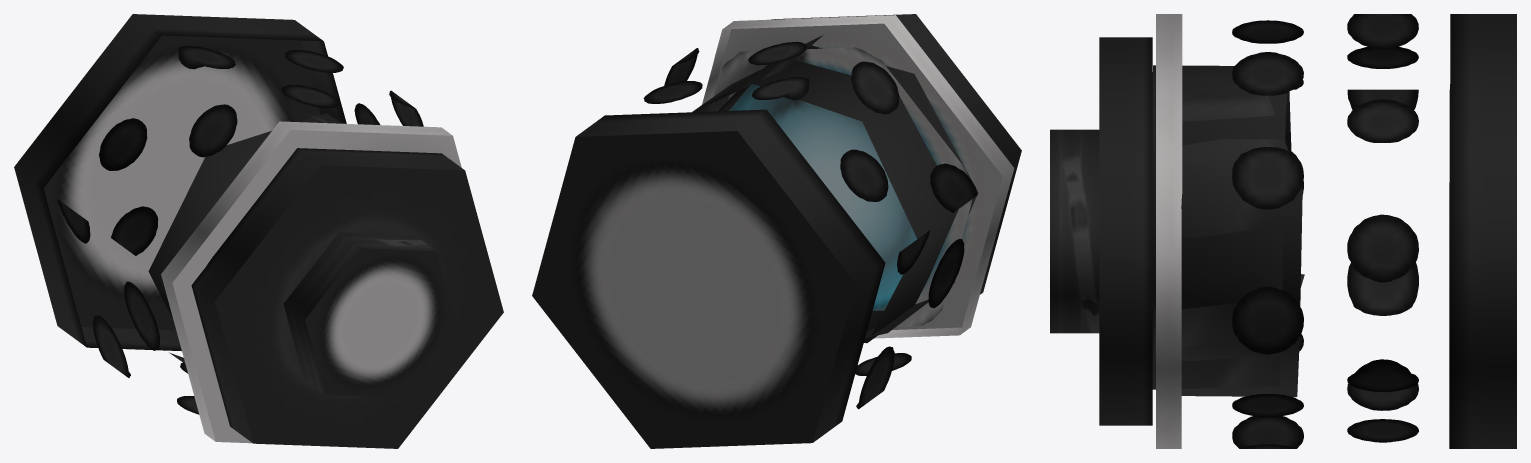
The model's file is obj_interactive_suspensionsport_04_on_lod1.fbx.
3 views of the same model, side by side, from view 1: azimuth 30°, elevation 25°; view 2: azimuth 150°, elevation 25°; view 3: azimuth 270°, elevation 25° (orthographic). The views are drawn at different scales.
Visible parts, largest first — view 1: obj_interactive_suspensionsport_04_on_lod1; view 2: obj_interactive_suspensionsport_04_on_lod1; view 3: obj_interactive_suspensionsport_04_on_lod1.
Boxes of the visible parts, x1,y1,x2,y2 form: obj_interactive_suspensionsport_04_on_lod1: (14,14,503,448); obj_interactive_suspensionsport_04_on_lod1: (532,14,1021,448); obj_interactive_suspensionsport_04_on_lod1: (1050,14,1516,448).
Bounding box in the file's own units: 1.02 × 1.02 × 1.12.
